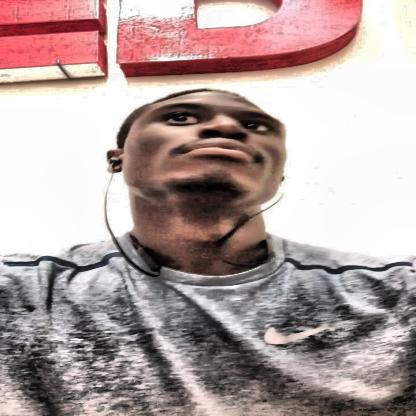not_wear: (132, 92, 286, 228)
